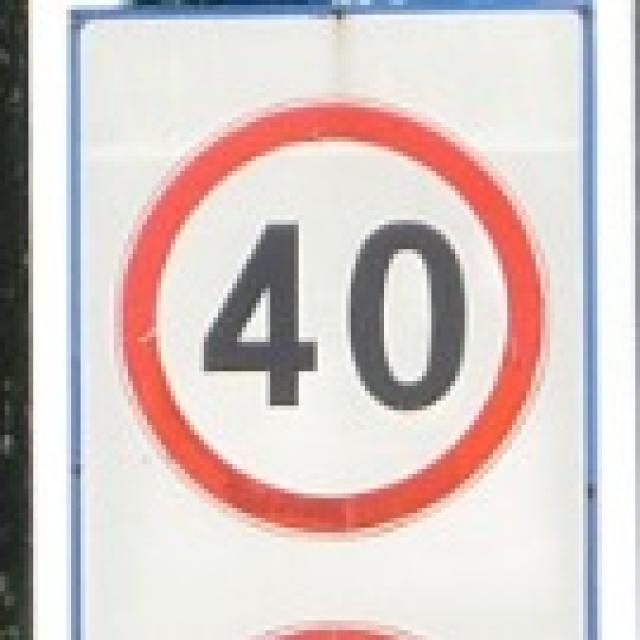Speed Limit -40-: (200, 222, 474, 414)
